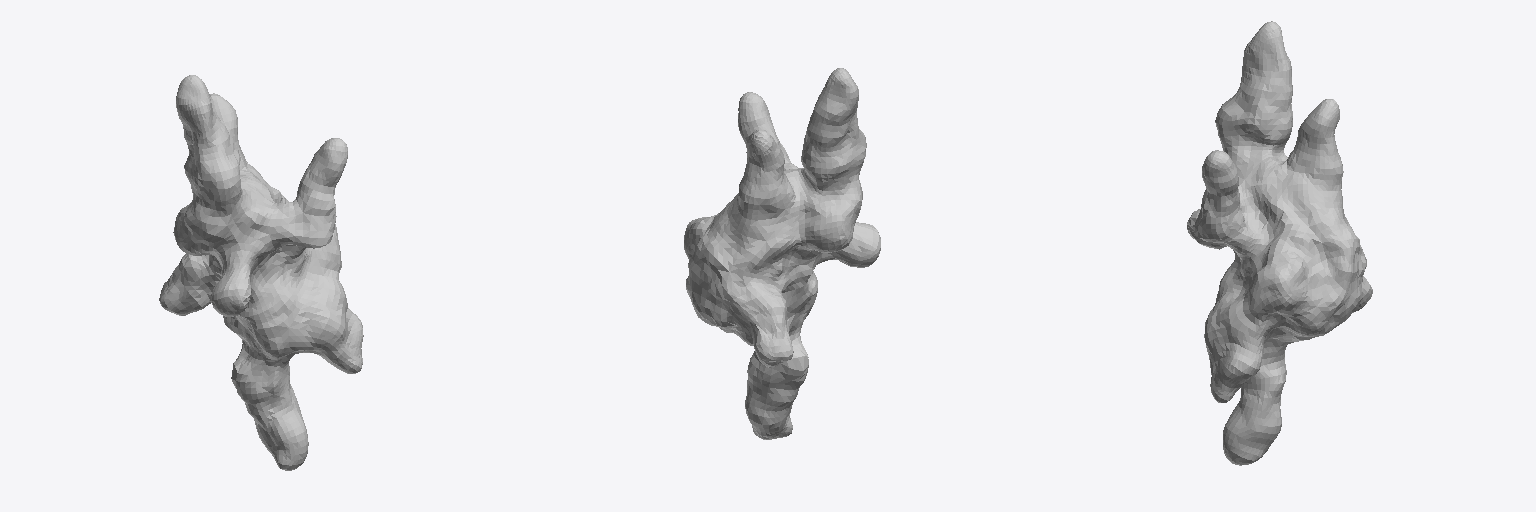
Rendered from tissue1.obj.
The picture shows the model from 3 angles: view 1: azimuth 30°, elevation 25°; view 2: azimuth 150°, elevation 25°; view 3: azimuth 270°, elevation 25°; orthographic projection.
Parts seen in each view (by area): view 1: Retopo_tissue1_mesh.001; view 2: Retopo_tissue1_mesh.001; view 3: Retopo_tissue1_mesh.001.
Part boxes in pixels (left/top/right/bottom): Retopo_tissue1_mesh.001: left=159, top=75, right=363, bottom=470; Retopo_tissue1_mesh.001: left=684, top=68, right=880, bottom=439; Retopo_tissue1_mesh.001: left=1187, top=21, right=1372, bottom=465.
Size of the model in its own units: 16.13 by 36.64 by 15.38.